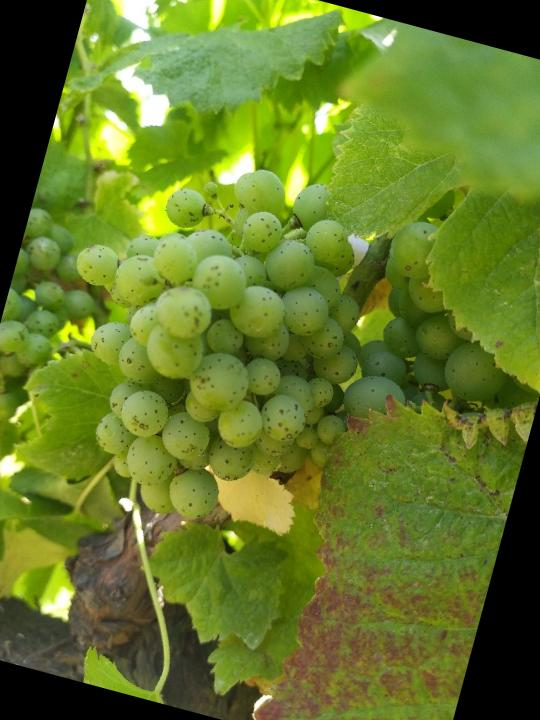grape: (18, 127, 408, 557)
